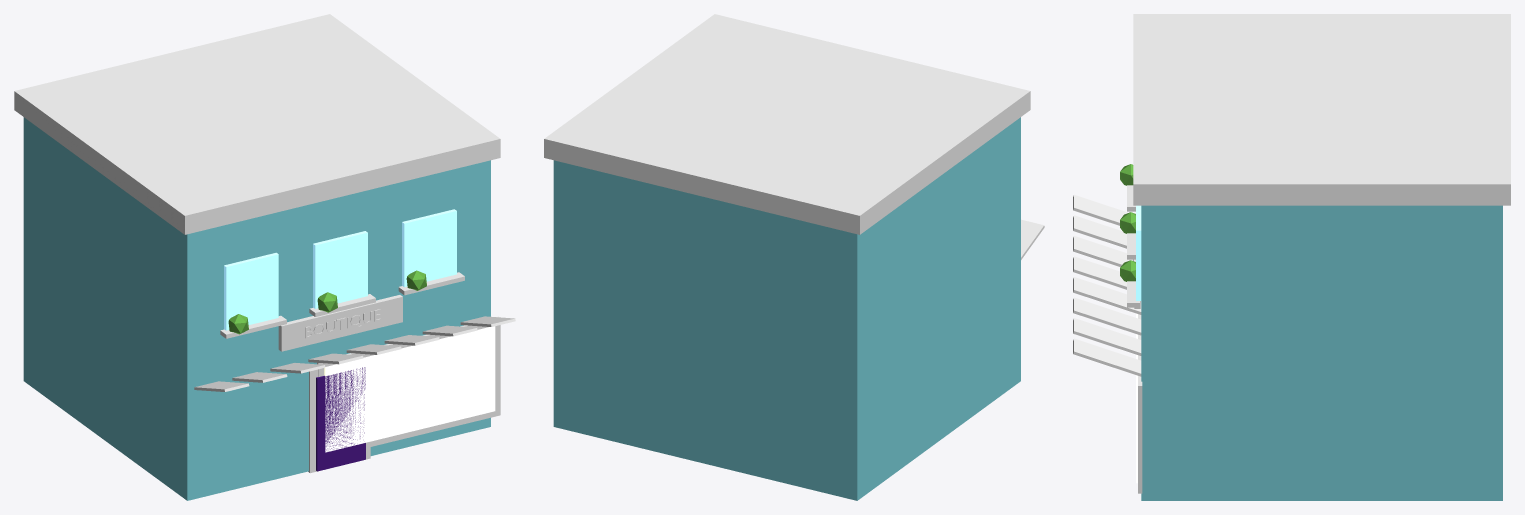
Rendered from journey_boutique.glb.
3 views of the same model, side by side, from view 1: azimuth 30°, elevation 25°; view 2: azimuth 150°, elevation 25°; view 3: azimuth 270°, elevation 25° (orthographic). The views are drawn at different scales.
Parts seen in each view (by area): view 1: Boutique_body; view 2: Boutique_body; view 3: Boutique_body.
Part boxes in pixels (x1=…): Boutique_body: x1=14, y1=14, x2=515, y2=500; Boutique_body: x1=544, y1=14, x2=1044, y2=500; Boutique_body: x1=1073, y1=14, x2=1510, y2=500.
Size of the model in its own units: 7.85 by 6.85 by 8.47.
